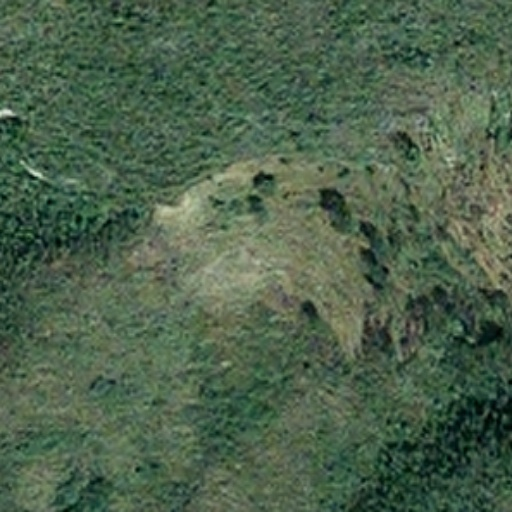landslide: (153, 158, 380, 356)
